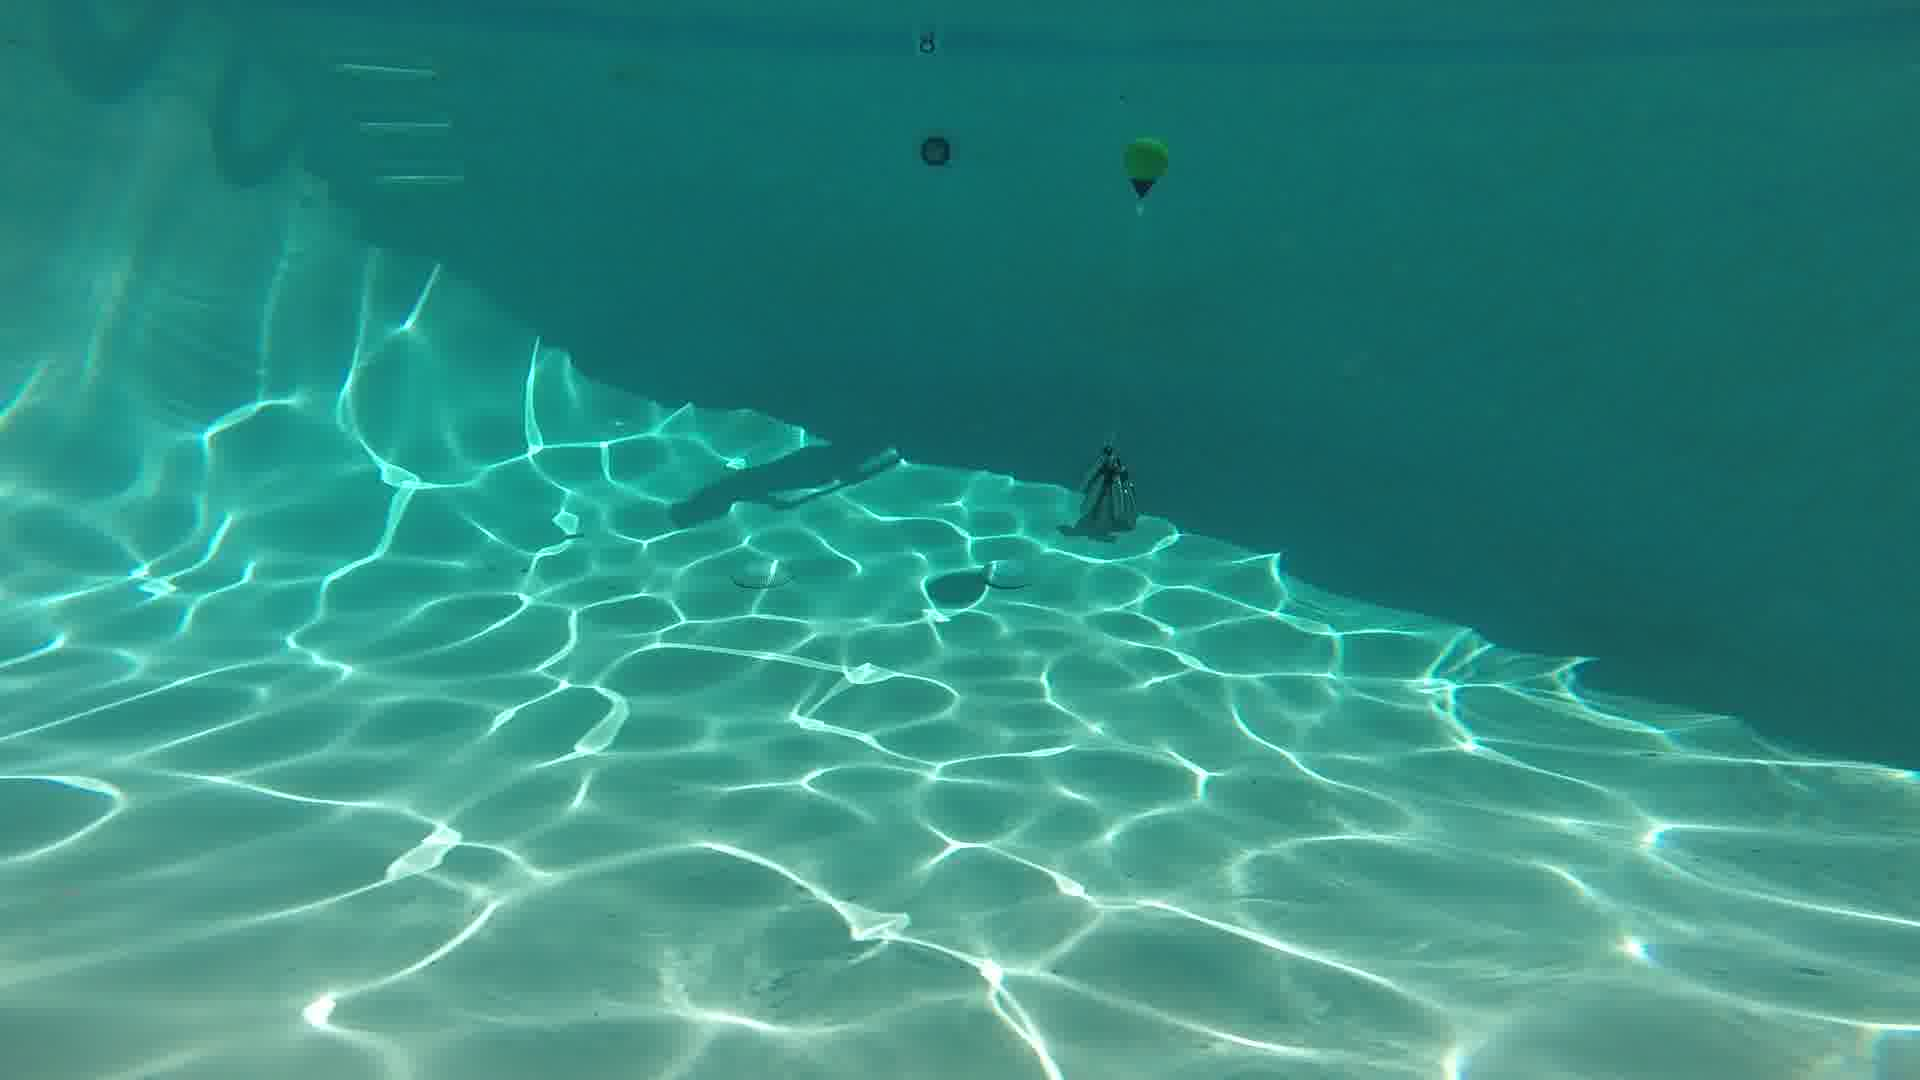yellow_buoy: (1124, 136, 1167, 196)
